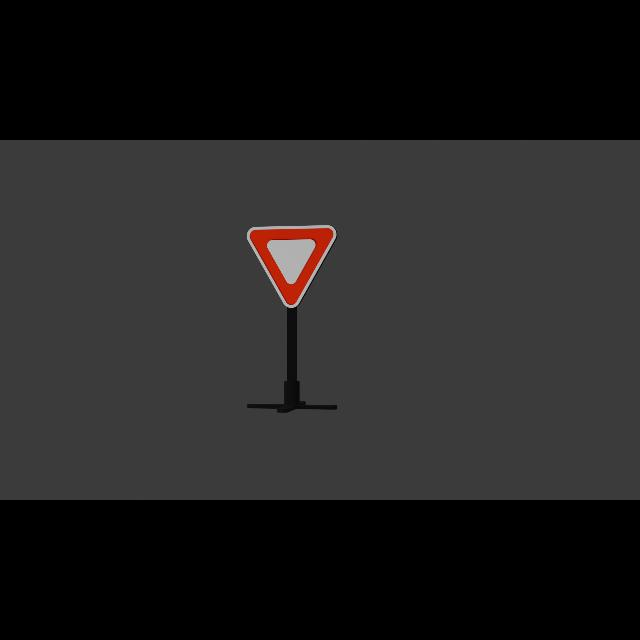sign_yield: (248, 225, 339, 309)
